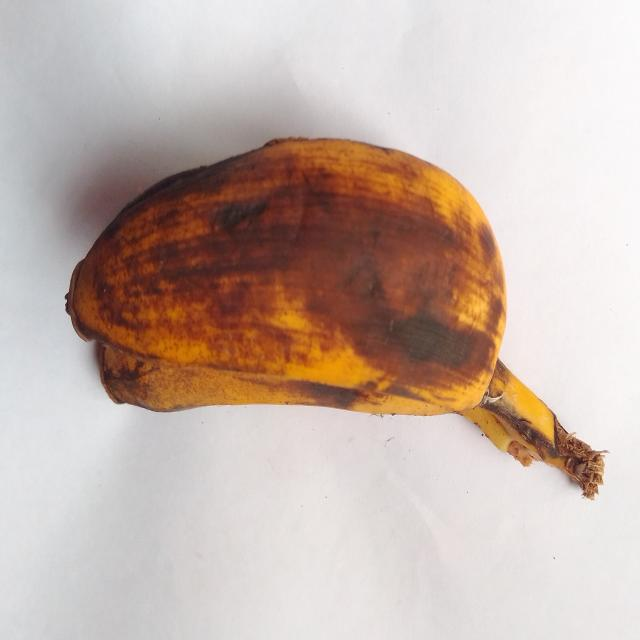banana: (68, 139, 603, 497)
